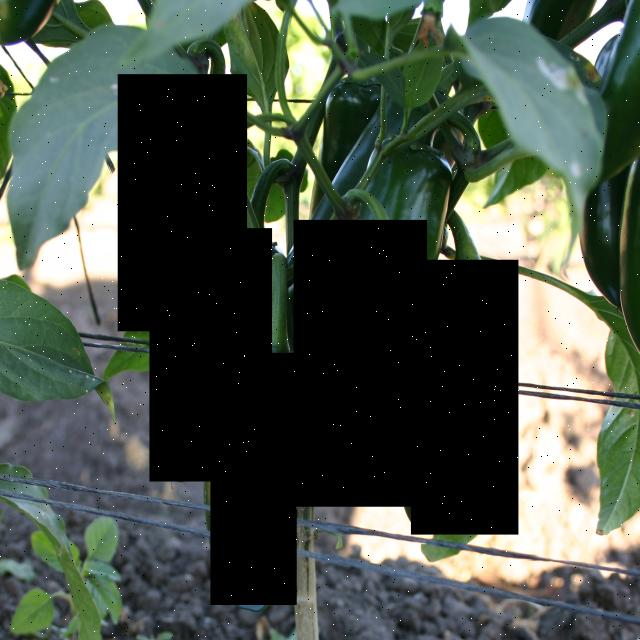Chili_Pepper: (294, 220, 427, 507), (118, 74, 247, 331), (150, 228, 272, 482), (411, 260, 519, 535), (210, 353, 297, 605)
